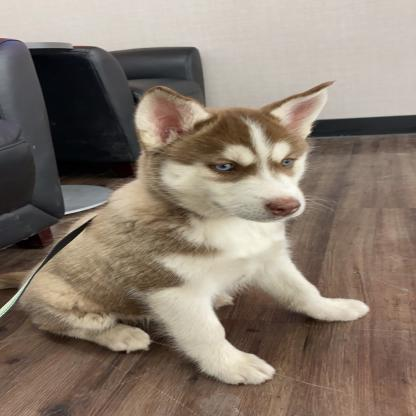husky: (22, 79, 374, 383)
